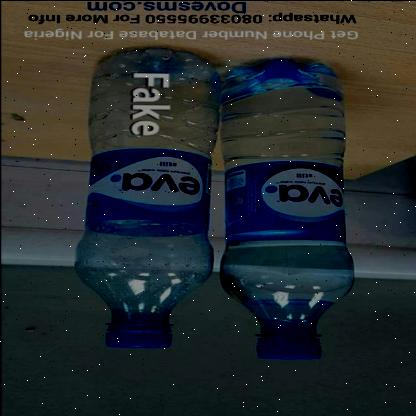Plastic Bottle: (73, 46, 217, 346), (220, 58, 352, 358)
